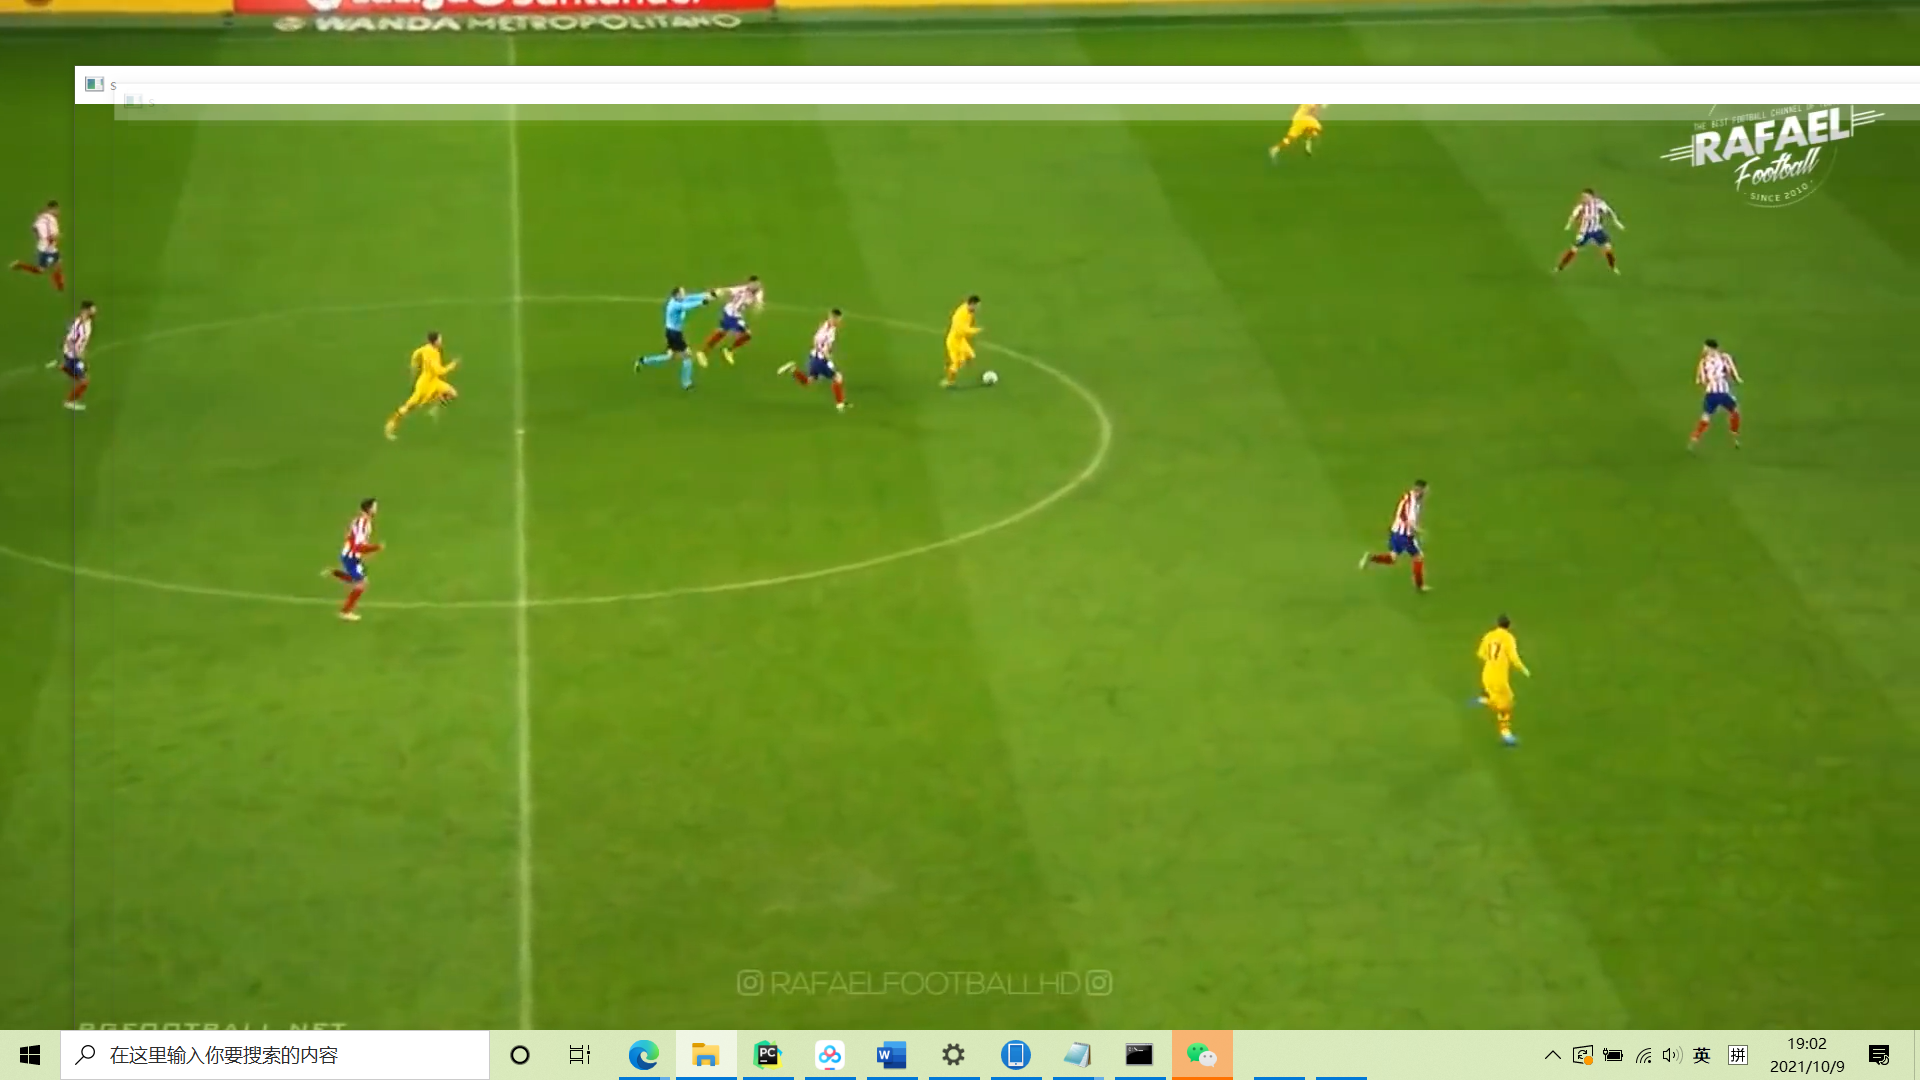ft: (980, 369, 1000, 386)
